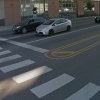crosswalk: (0, 46, 100, 100)
